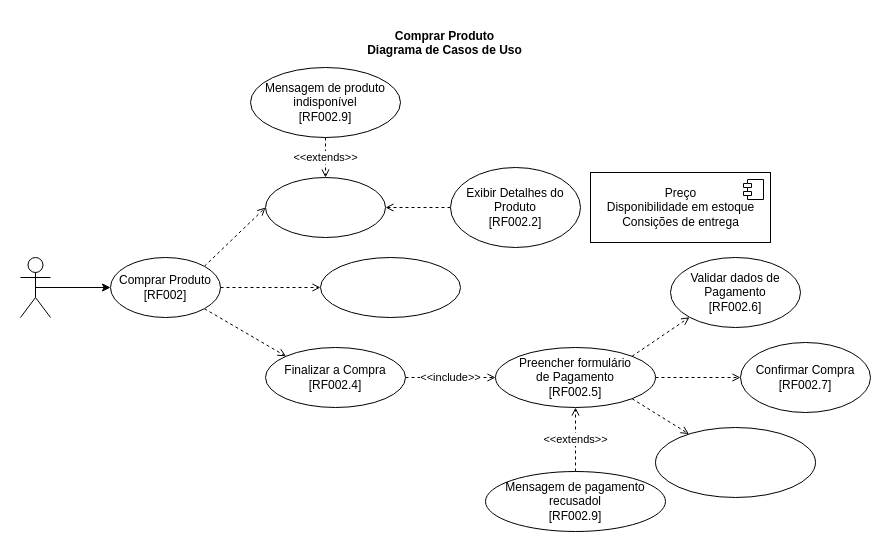
The diagram is 888 pixels wide and 549 high, and some of its shapes have lost their labels. Here are the shapes that lost their labels. From the top down, the centre of each, then its label:
At (x=325, y=207): "Selecionar Produto [RF002.1]".
At (x=35, y=287): "Cliente".
At (x=390, y=287): "Adicionar ao Carrinho [RF002.3]".
At (x=735, y=462): "Exibir mensagem de confirmação e enviar e-mail [RF002.8]".
